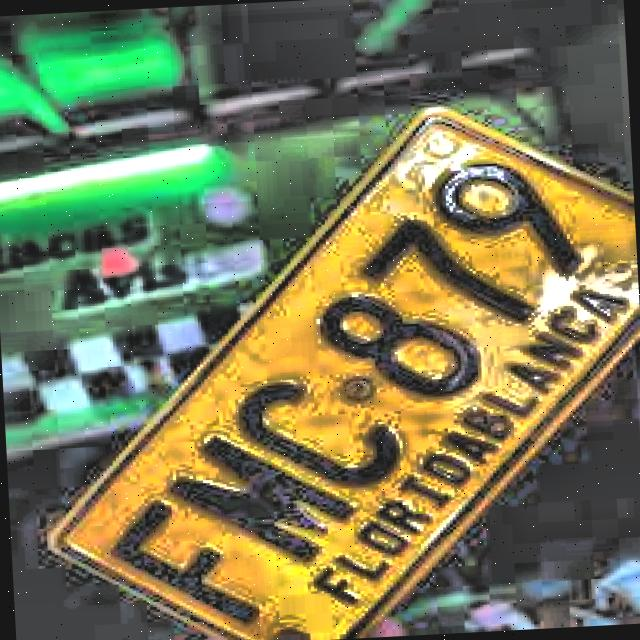plate: (55, 111, 637, 640)
